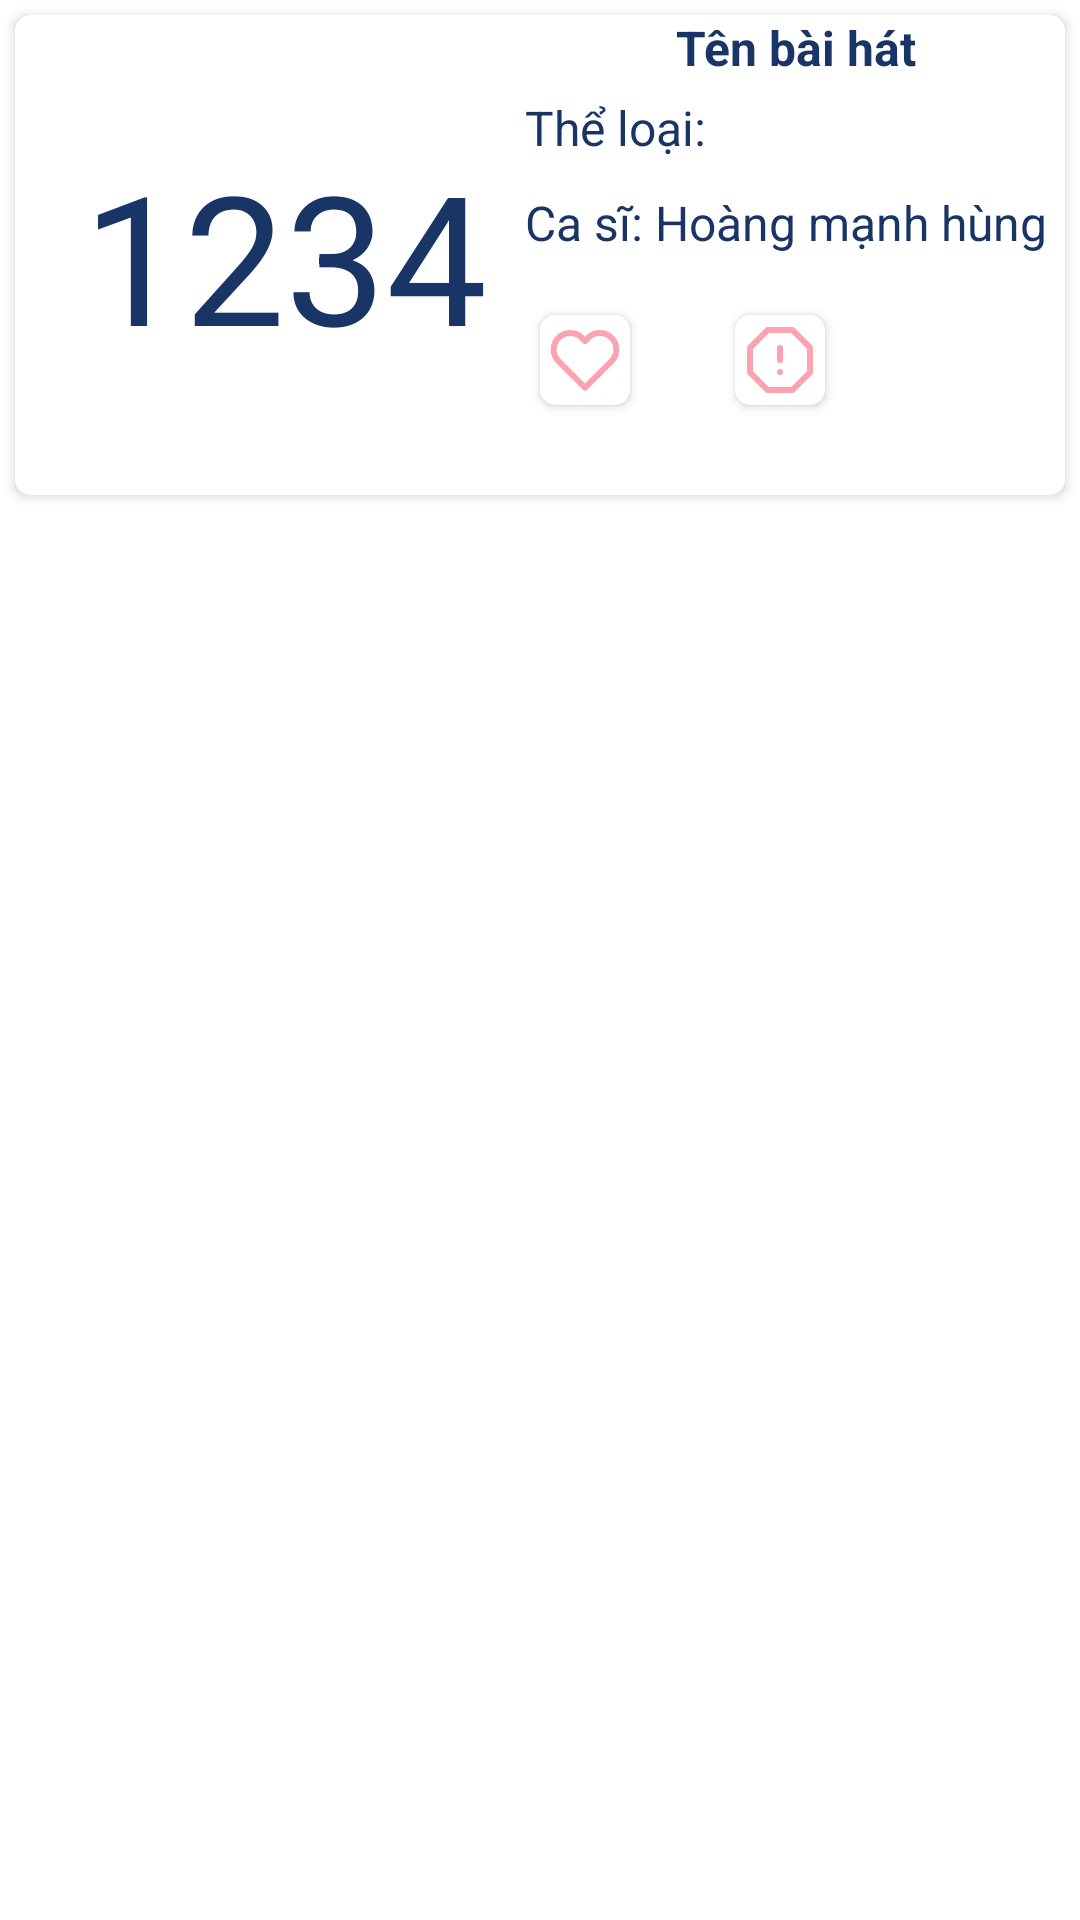

Icons on this 1080 x 1920 Android screen, each with the point to tap as [x,y]:
alert octagon: [780,360]
heart: [585,360]
